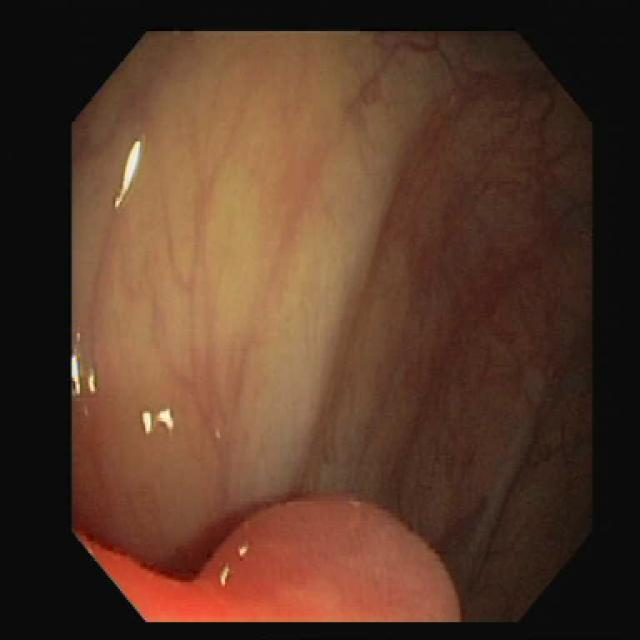tumor: (77, 498, 460, 620)
